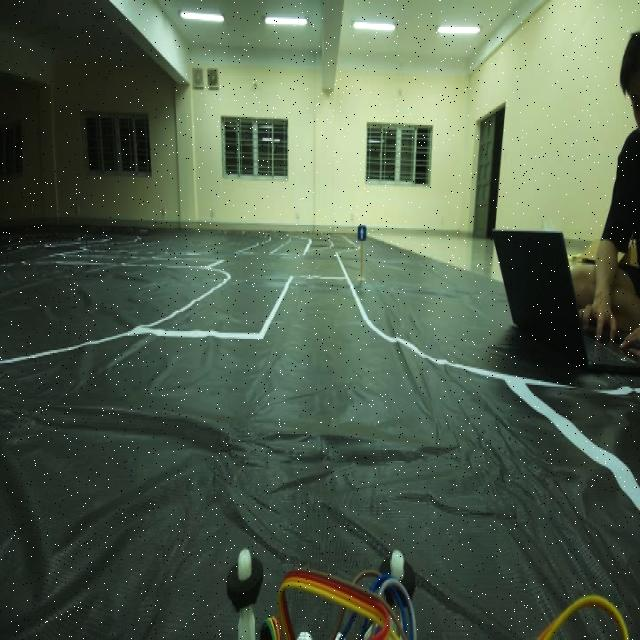onewayroad: (354, 220, 368, 246)
